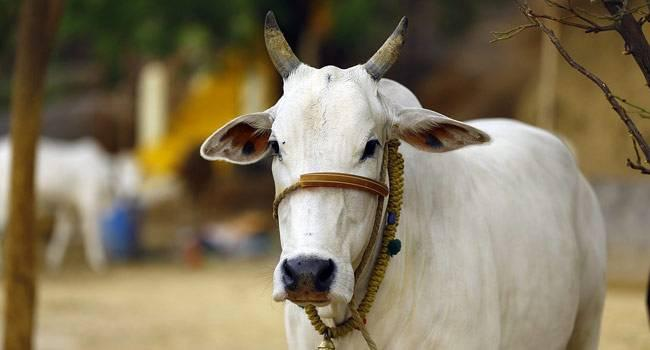muzzles: (267, 253, 359, 311)
